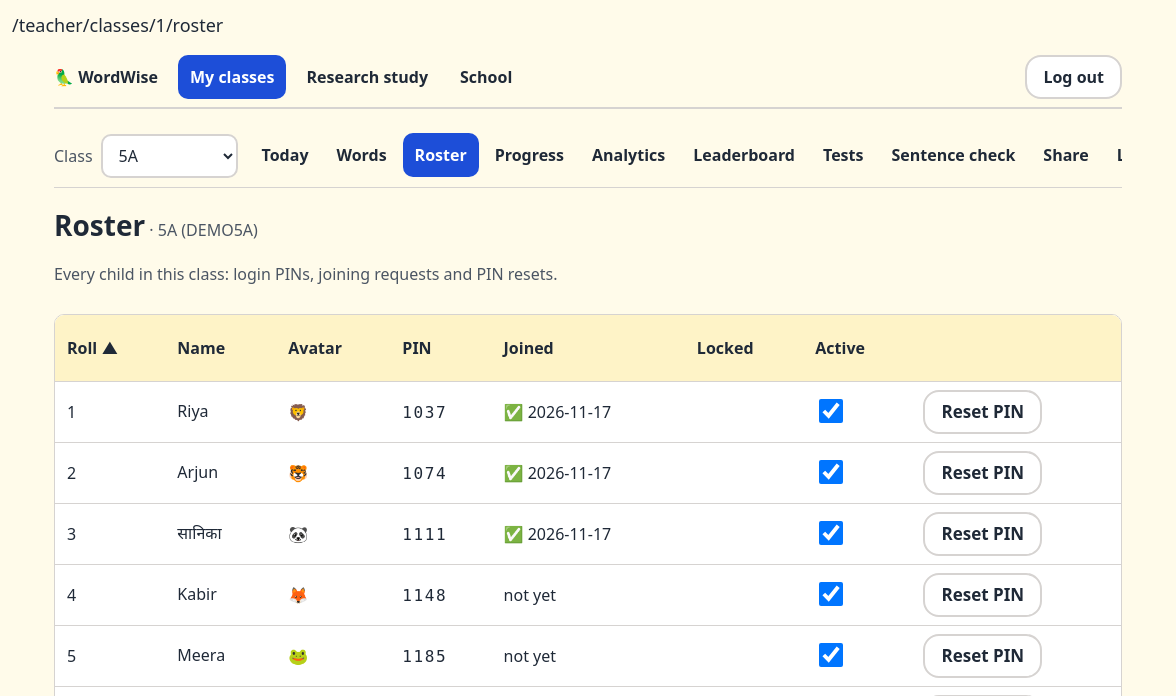
it: teacher app (mock API) › roster shows Joined and Locked columns and a reset PIN message
The image size is (1176, 696).
Check: the button "Joined" is shown, box [504,326,554,370]
Check: the button "Locked" is shown, box [697,326,754,370]
Click the button "Reset PIN" in the row of "Riya" at [983, 412], box [924,390,1042,434]
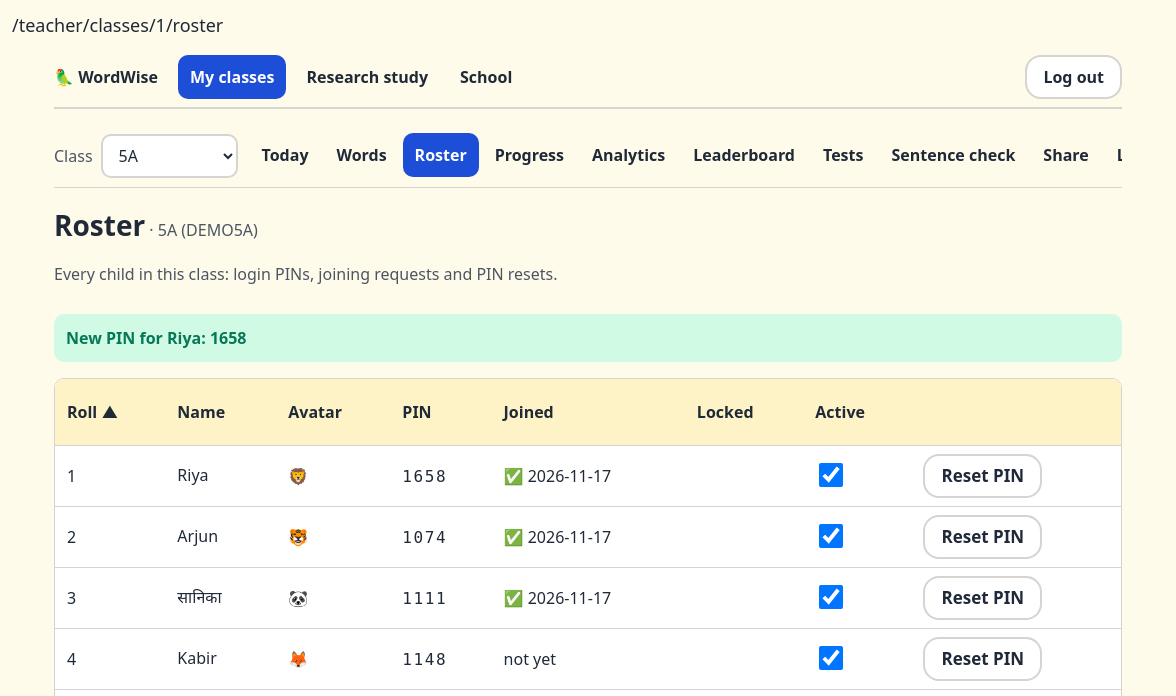
Check: the text "New PIN for Riya: 1658" is shown, box [54,314,1122,362]
